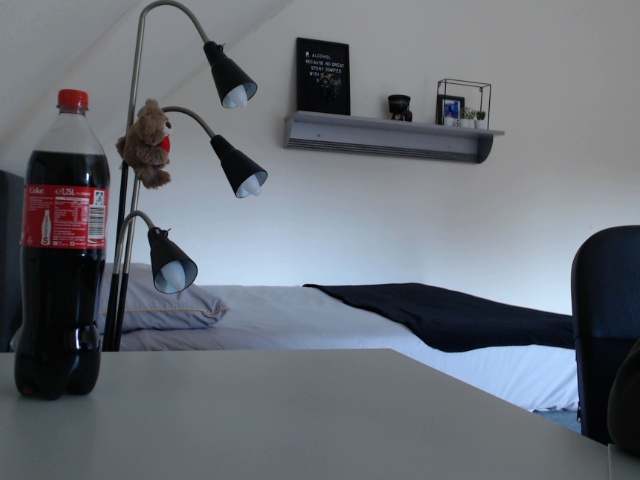bottle: (14, 88, 110, 402)
